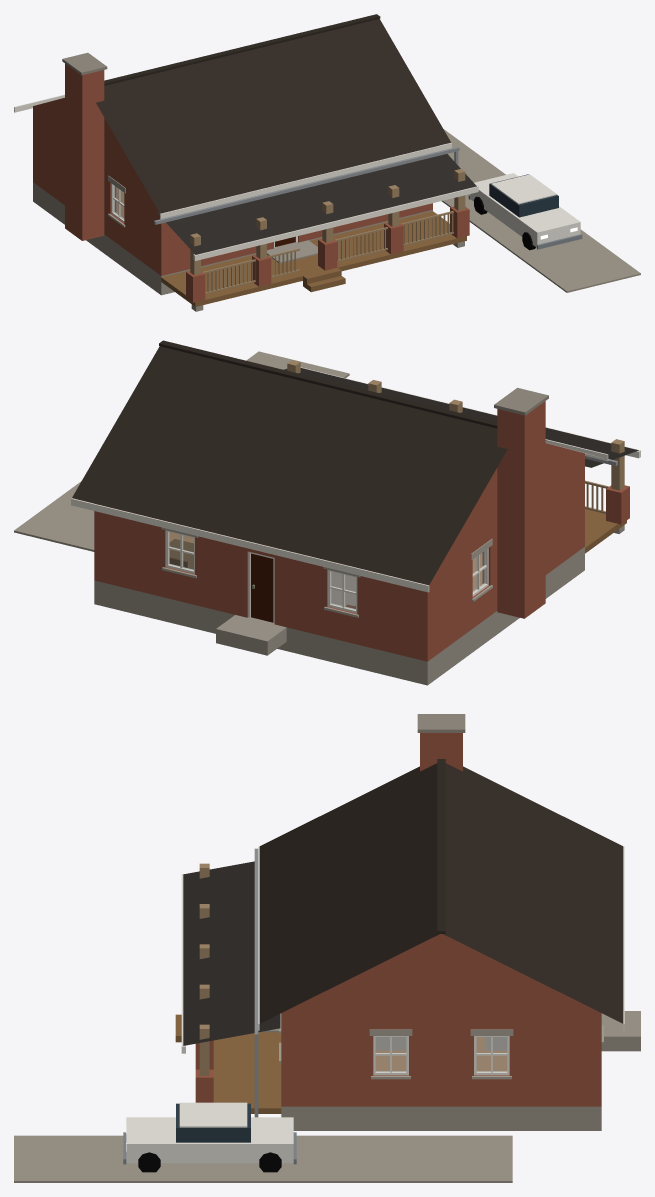
Rendered from bungalow_c.glb.
3 views of the same model, one above another, from view 1: azimuth 30°, elevation 25°; view 2: azimuth 150°, elevation 25°; view 3: azimuth 270°, elevation 25° (orthographic). The views are drawn at different scales.
Visible parts, largest first — view 1: LOD0; view 2: LOD0, LEAF1, FURN; view 3: LOD0.
Part boxes in pixels (x1,y1,x2,y2): LOD0: (14,14,640,311); LOD0: (14,340,640,685); LEAF1: (251,553,273,622); FURN: (169,539,355,608); LOD0: (14,714,640,1182).
Size of what is drawn, in the model's own units: 16.12 by 7.31 by 17.6.
